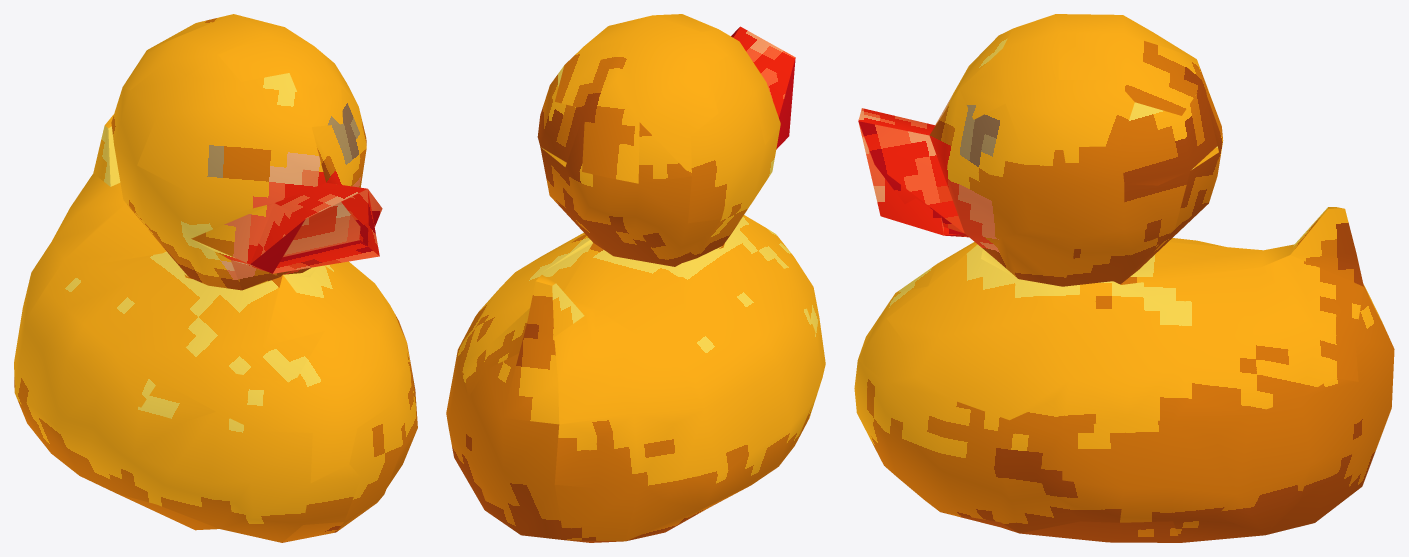
File: rubber_duck.glb
3 renders of one model, left to right at view 1: azimuth 30°, elevation 25°; view 2: azimuth 150°, elevation 25°; view 3: azimuth 270°, elevation 25°, orthographic. The views are drawn at different scales.
Visible parts, largest first — view 1: mesh; view 2: mesh; view 3: mesh.
Boxes of the visible parts, box(x1,y1,x2,y2) form: mesh: box(14, 14, 417, 542); mesh: box(446, 14, 825, 542); mesh: box(854, 14, 1394, 542).
Bounding box in the file's own units: 12.08 × 16 × 16.81.
1 material, 1 textured.
